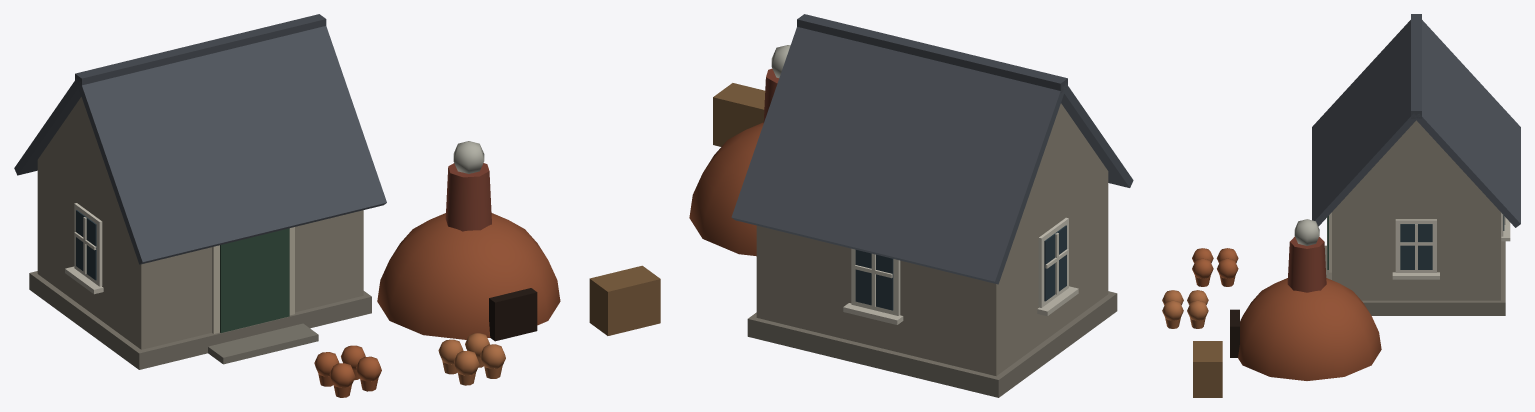
The model's file is procedural_pottery_kiln@3.glb.
The picture shows the model from 3 angles, left to right: view 1: azimuth 30°, elevation 25°; view 2: azimuth 150°, elevation 25°; view 3: azimuth 270°, elevation 25°; orthographic projection. The views are drawn at different scales.
Parts seen in each view (by area): view 1: part_0, part_4; view 2: part_0; view 3: part_0, part_4.
Boxes of the visible parts, x1,y1,x2,y2 form: part_0: (14,14,660,397); part_4: (453,141,484,173); part_0: (689,14,1133,397); part_0: (1162,14,1520,397); part_4: (1294,219,1319,245).
Bounding box in the file's own units: 8.41 × 4.61 × 7.22.
